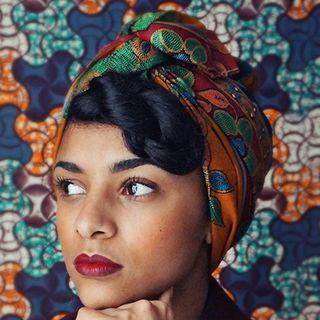cap: (45, 0, 297, 271)
